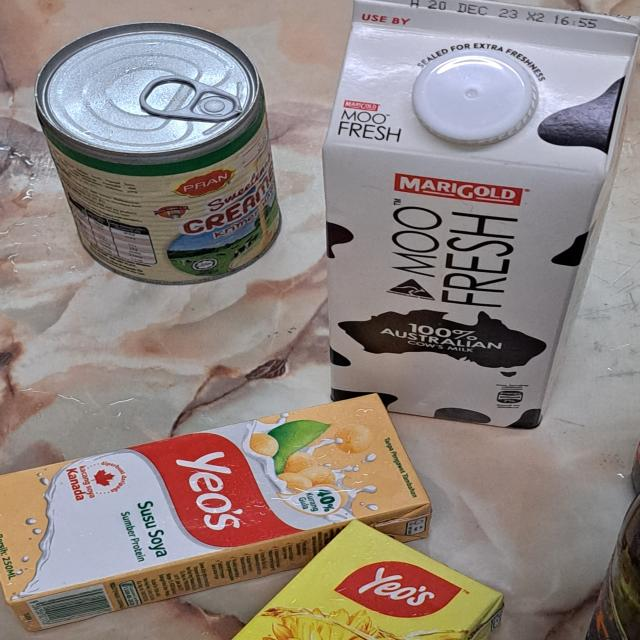can: (32, 19, 284, 284)
drink carton: (325, 0, 640, 429), (0, 394, 433, 636), (222, 516, 508, 640)
pop tab: (140, 76, 241, 122)
